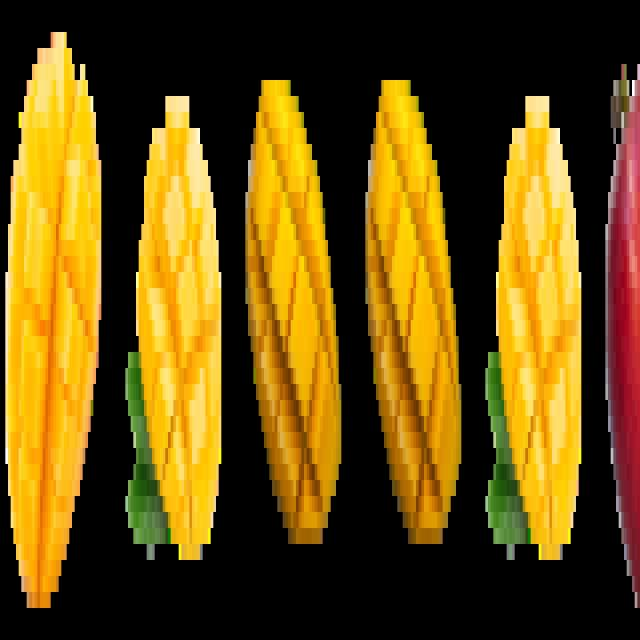mango: (5, 19, 102, 614), (485, 70, 586, 578), (243, 70, 344, 556), (363, 74, 464, 555), (124, 93, 223, 564)
